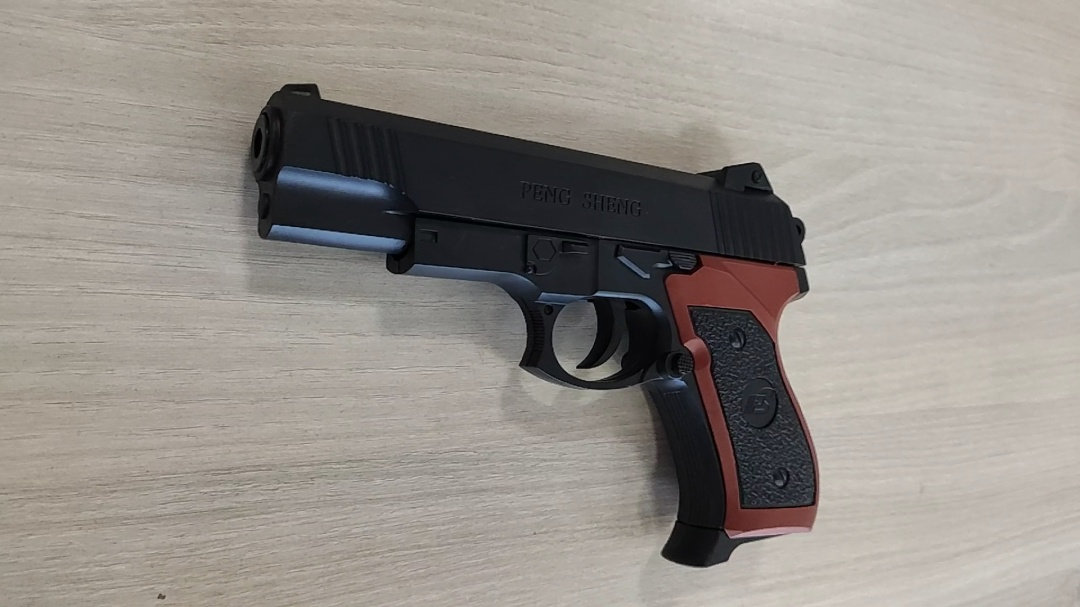gunw: (251, 76, 825, 568)
